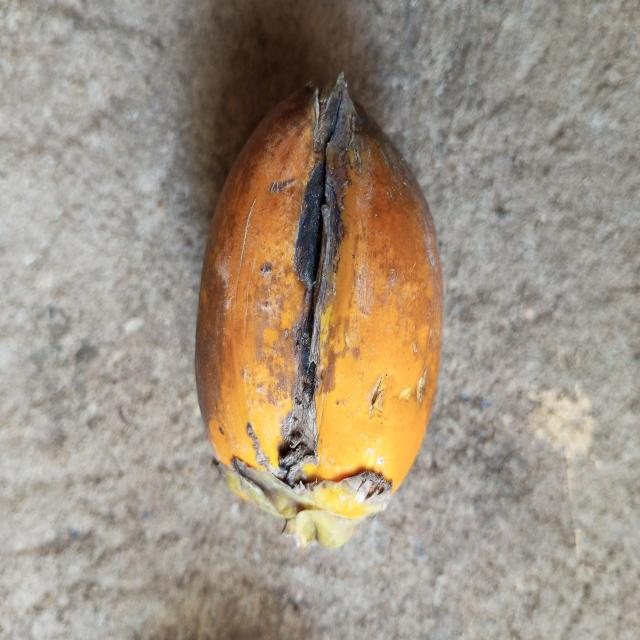damaged: (196, 76, 444, 551)
